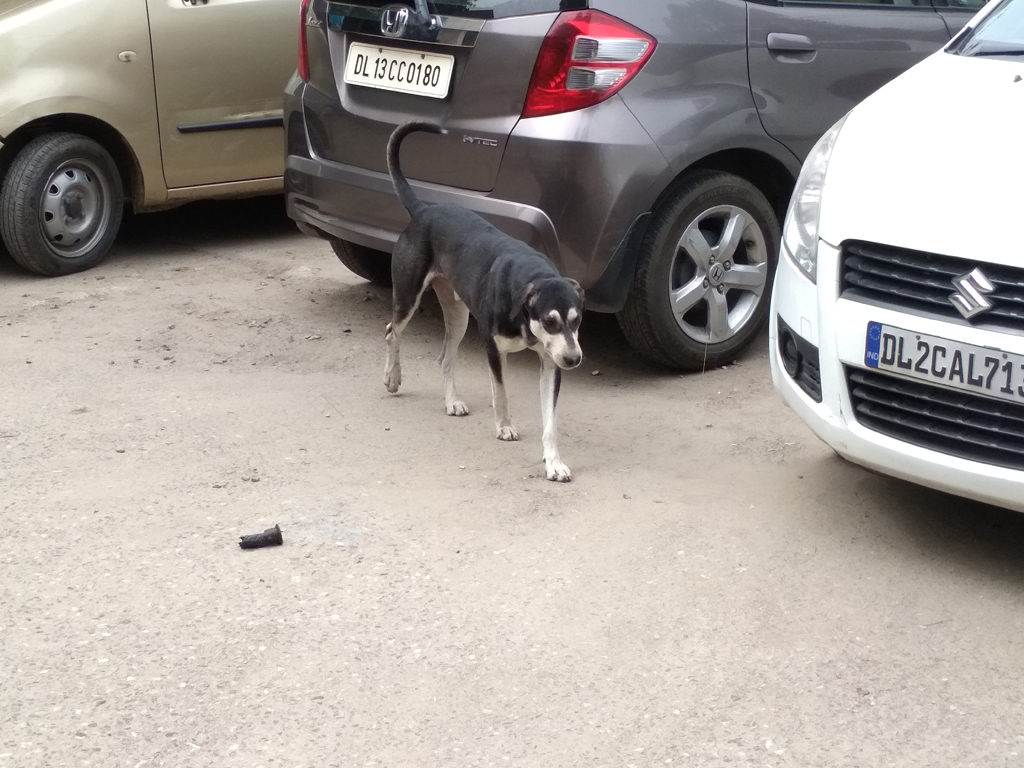dog: (386, 121, 583, 483)
